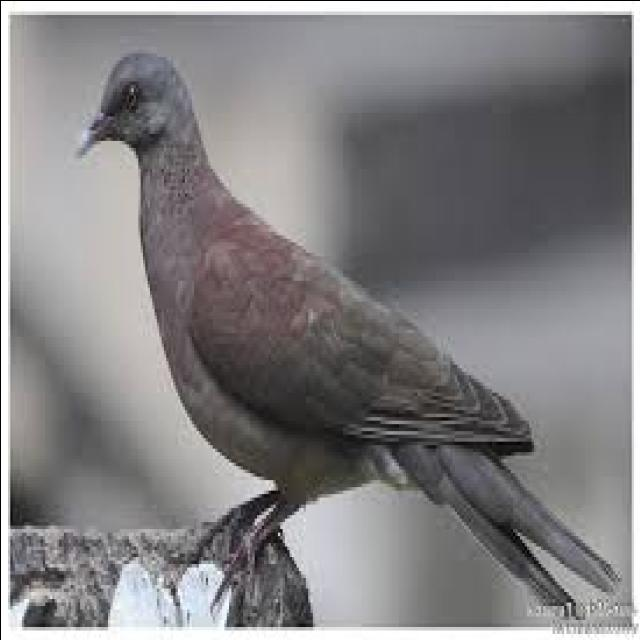pigeon: (70, 39, 614, 636)
